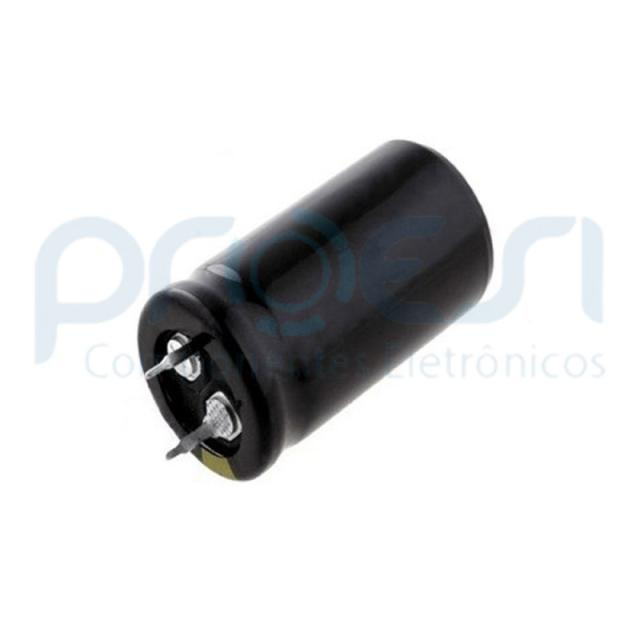Capacitor: (137, 139, 496, 484)
